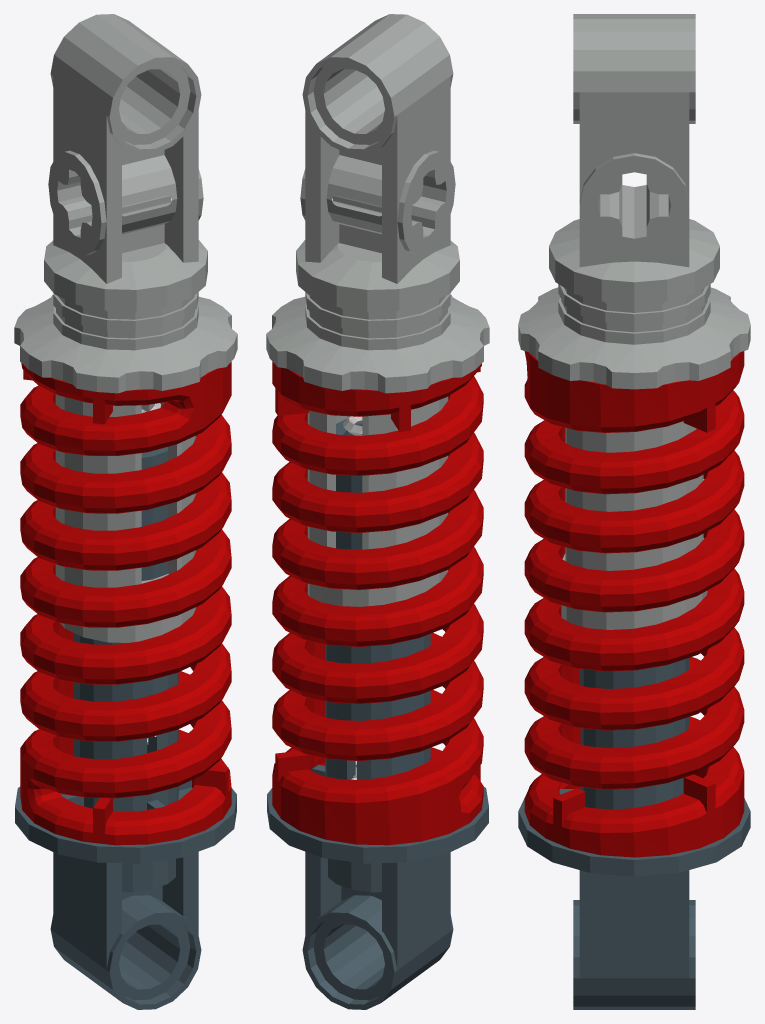
The picture shows the model from 3 angles, left to right: view 1: azimuth 30°, elevation 25°; view 2: azimuth 150°, elevation 25°; view 3: azimuth 270°, elevation 25°; orthographic projection. The views are drawn at different scales.
Visible parts, largest first — view 1: world; view 2: world; view 3: world.
Boxes of the visible parts, <box> form: world: <box>14,14,237,1009</box>; world: <box>266,14,489,1009</box>; world: <box>518,14,750,1009</box>.
Size of the model in its own units: 0.0152 by 0.0712 by 0.0152.
